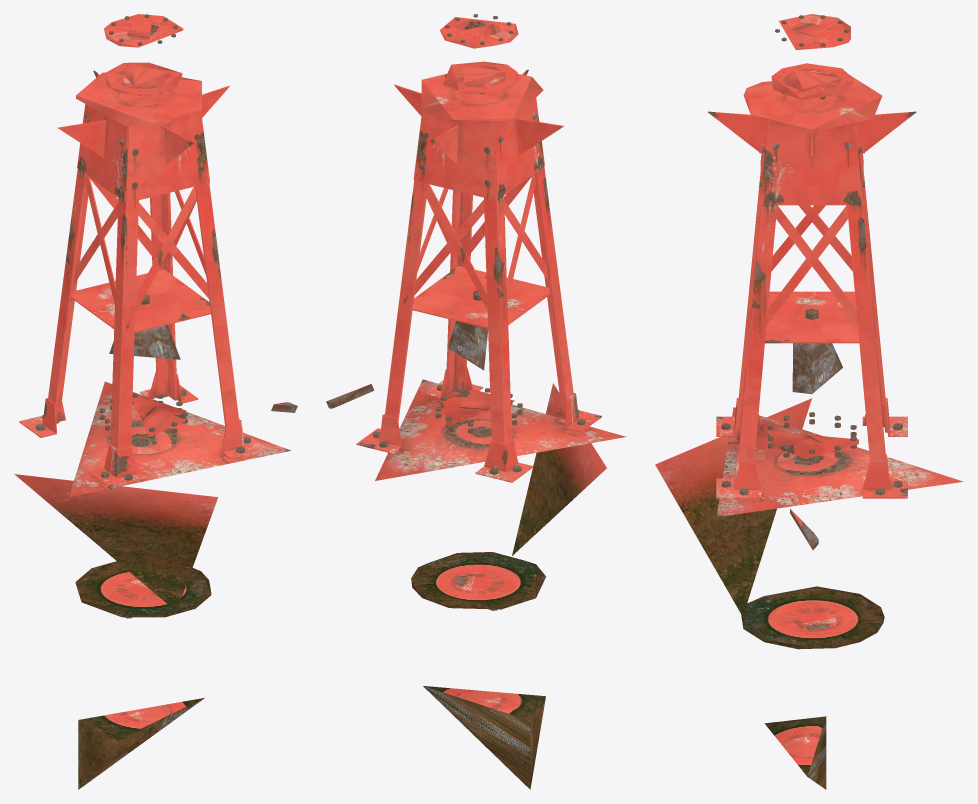
Rendered from ph_ocean_buoy_lod1.glb.
3 views of the same model, side by side, from view 1: azimuth 30°, elevation 25°; view 2: azimuth 150°, elevation 25°; view 3: azimuth 270°, elevation 25° (orthographic). The views are drawn at different scales.
Visible parts, largest first — view 1: ocean_buoy; view 2: ocean_buoy; view 3: ocean_buoy.
Part boxes in pixels (left/top/right/bottom): ocean_buoy: left=14, top=14, right=297, bottom=789; ocean_buoy: left=326, top=14, right=626, bottom=789; ocean_buoy: left=655, top=14, right=963, bottom=789.
Bounding box in the file's own units: 1.04 × 2.65 × 0.9359.
1 material, 1 textured.
